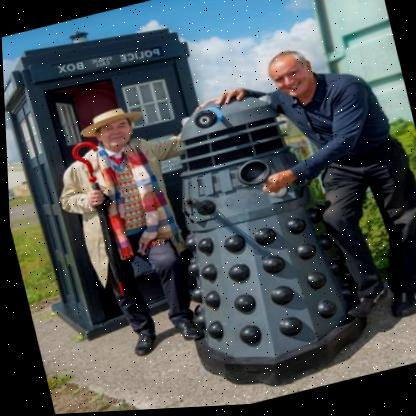dalek: (138, 73, 377, 391)
person: (241, 1, 416, 342), (40, 77, 226, 384)
